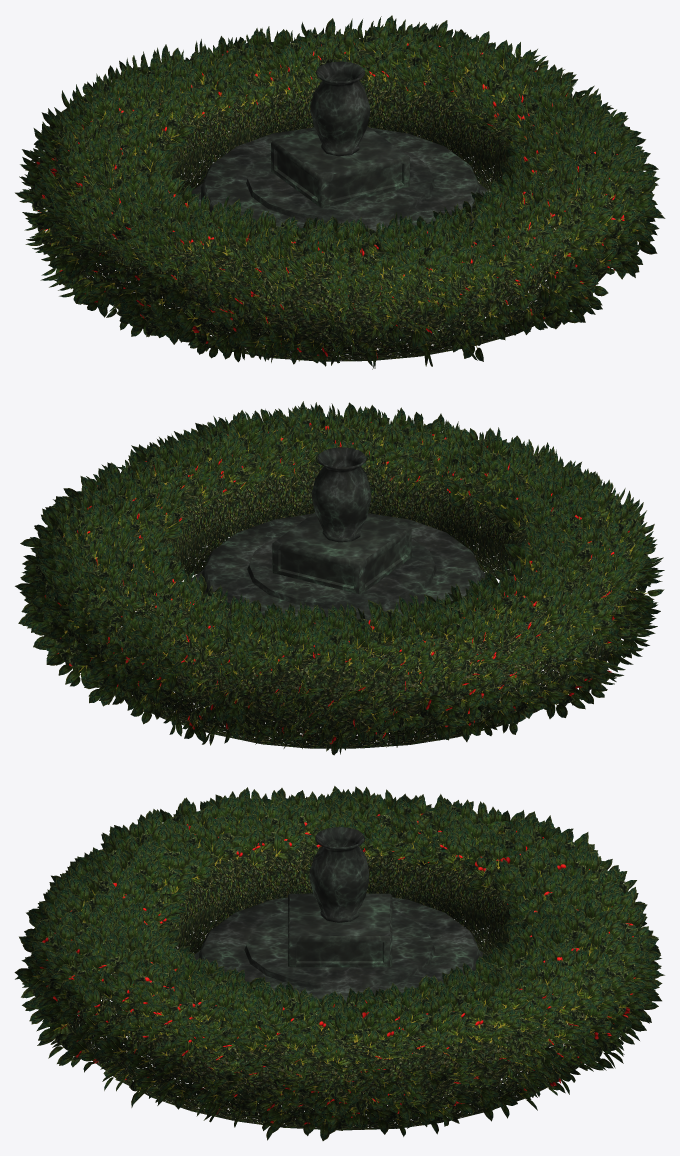
Rendered from BurfordHollyCircle_RT.fbx.
The picture shows the model from 3 angles, top to bottom: view 1: azimuth 30°, elevation 25°; view 2: azimuth 150°, elevation 25°; view 3: azimuth 270°, elevation 25°; orthographic projection.
Parts seen in each view (by area): view 1: BurfordHollyCircle_RT_Leafs, BurfordHollyCircle_RT; view 2: BurfordHollyCircle_RT_Leafs, BurfordHollyCircle_RT; view 3: BurfordHollyCircle_RT_Leafs, BurfordHollyCircle_RT.
Part boxes in pixels (x1,y1,x2,y2): BurfordHollyCircle_RT_Leafs: [15, 15, 665, 369]; BurfordHollyCircle_RT: [47, 48, 627, 361]; BurfordHollyCircle_RT_Leafs: [15, 401, 664, 755]; BurfordHollyCircle_RT: [54, 429, 635, 748]; BurfordHollyCircle_RT_Leafs: [14, 786, 664, 1140]; BurfordHollyCircle_RT: [45, 824, 623, 1130].
Size of the model in its own units: 8.6 by 8.52 by 2.65.
